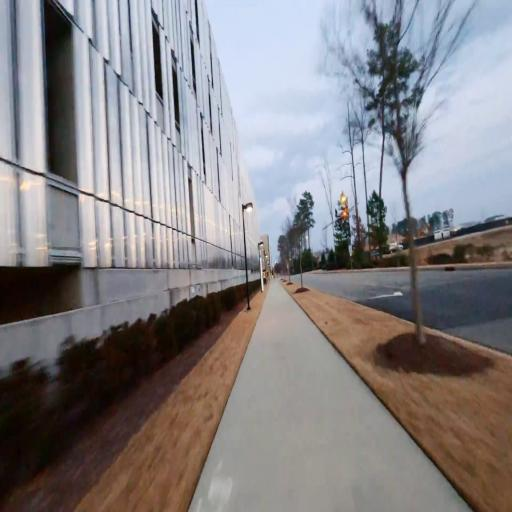uav: (320, 203, 363, 232)
